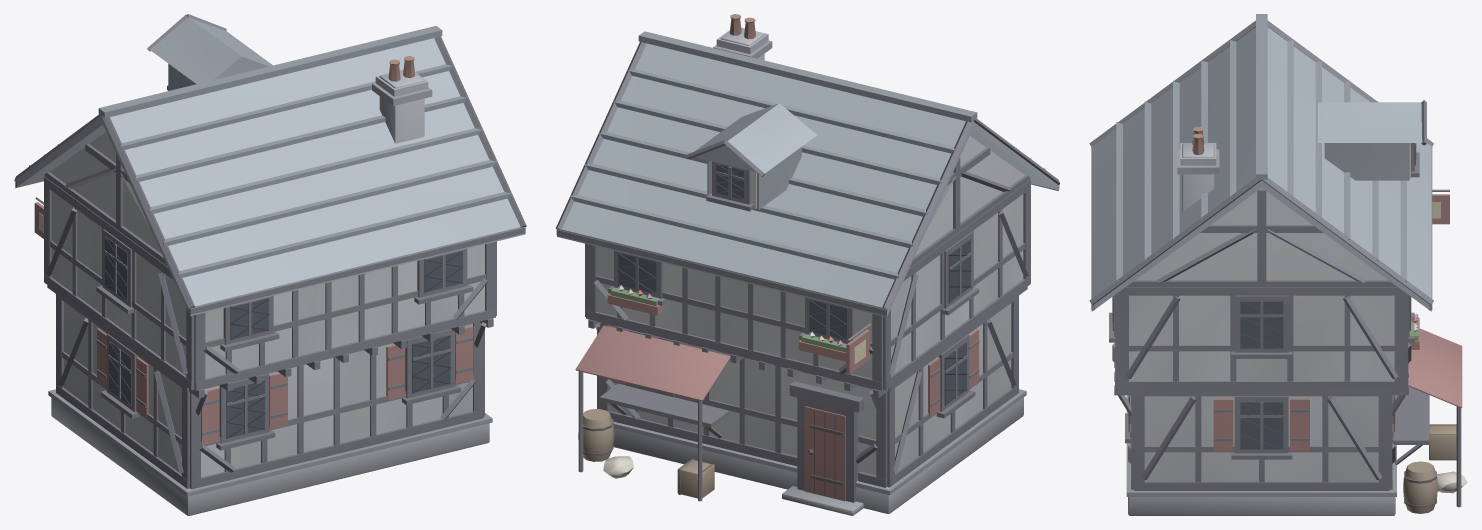
The model's file is shop_frost.gltf.
3 views of the same model, side by side, from view 1: azimuth 30°, elevation 25°; view 2: azimuth 150°, elevation 25°; view 3: azimuth 270°, elevation 25° (orthographic). The views are drawn at different scales.
Parts seen in each view (by area): view 1: Body; view 2: Body; view 3: Body.
Boxes of the visible parts, x1=… form: Body: x1=14, y1=14, x2=526, y2=515; Body: x1=555, y1=14, x2=1060, y2=515; Body: x1=1089, y1=14, x2=1467, y2=515.
Size of the model in its own units: 8.37 by 8.76 by 8.34.
